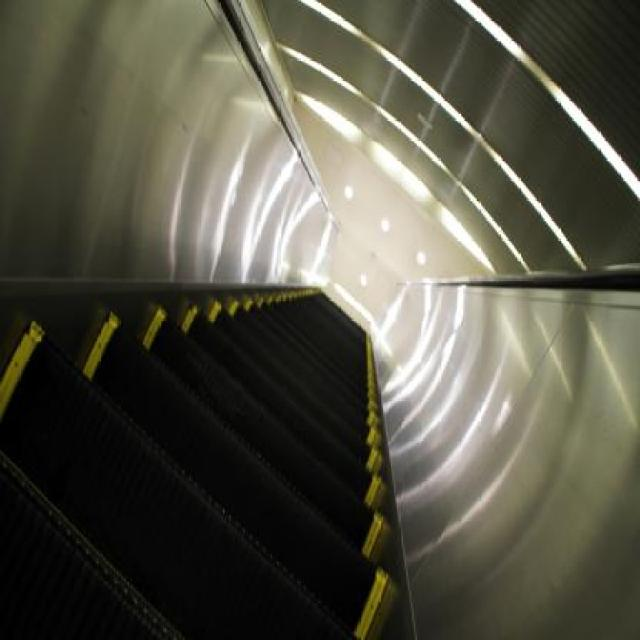stair: (0, 280, 412, 640)
